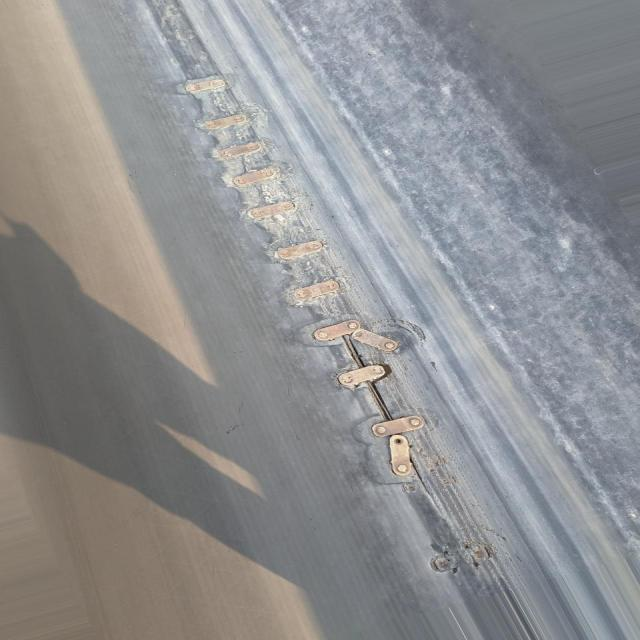patch work: (153, 63, 506, 601)
